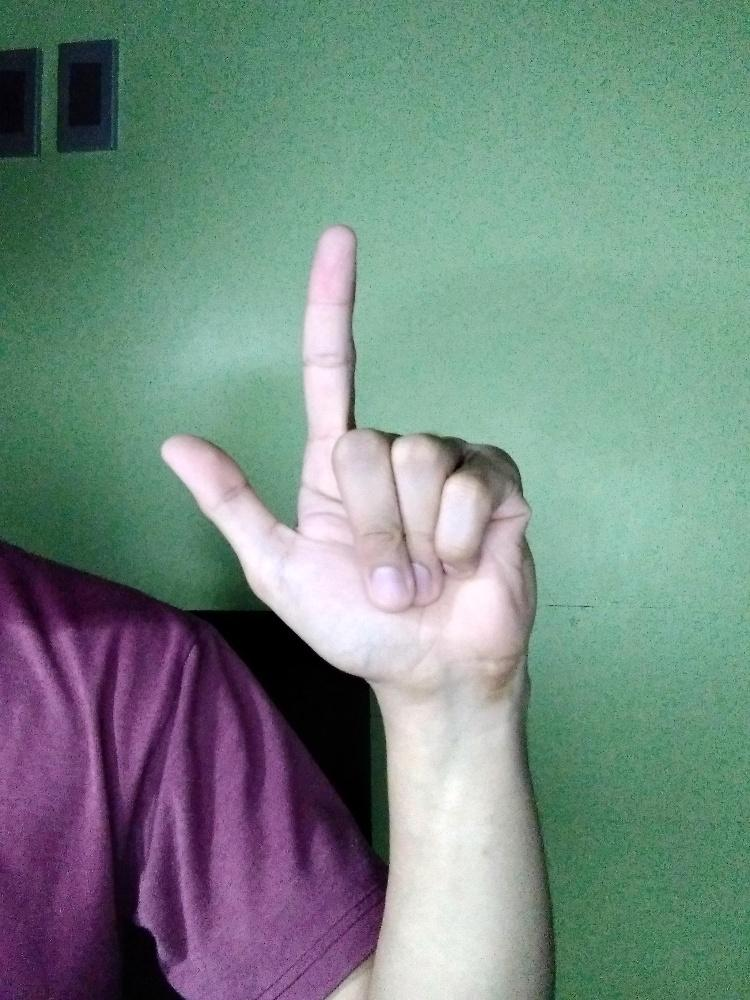l: (155, 216, 540, 694)
